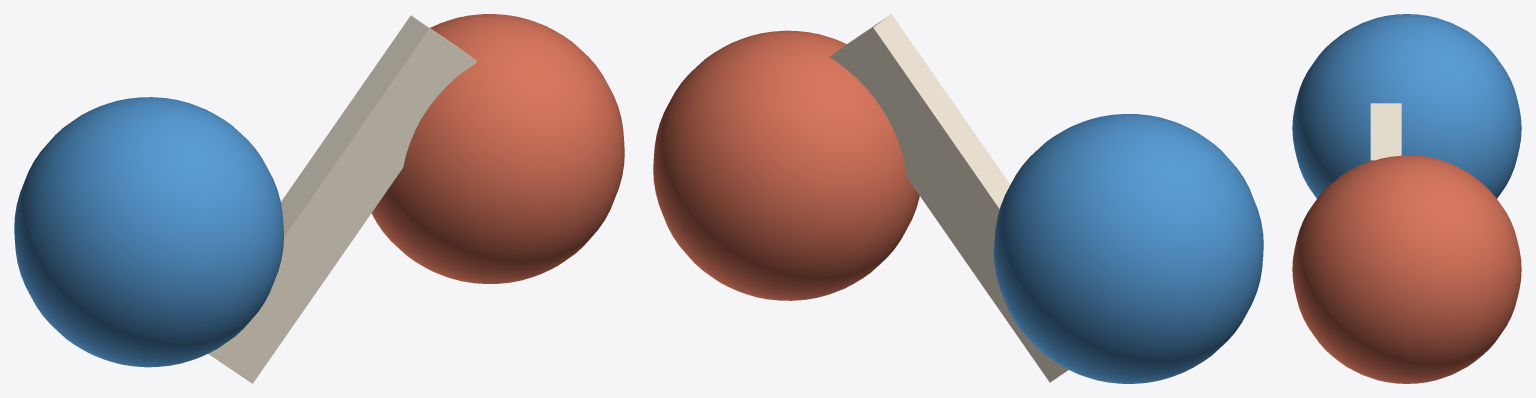
The model's file is bio-genetics-heterozygous-pairing.glb.
3 views of the same model, side by side, from view 1: azimuth 30°, elevation 25°; view 2: azimuth 150°, elevation 25°; view 3: azimuth 270°, elevation 25° (orthographic). The views are drawn at different scales.
Parts seen in each view (by area): view 1: different-allele-copy-left, different-allele-copy-right, different-version-contrast-bar; view 2: different-allele-copy-left, different-allele-copy-right, different-version-contrast-bar; view 3: different-allele-copy-right, different-allele-copy-left, different-version-contrast-bar.
Part boxes in pixels (x1,y1,x2,y2): different-allele-copy-left: (14,97,283,367); different-allele-copy-right: (371,14,624,283); different-version-contrast-bar: (208,15,476,383); different-allele-copy-left: (994,114,1263,383); different-allele-copy-right: (653,30,919,300); different-version-contrast-bar: (829,14,1068,382); different-allele-copy-right: (1292,155,1521,383); different-allele-copy-left: (1292,14,1521,198); different-version-contrast-bar: (1370,103,1401,161).
Size of what is drawn, in the model's own units: 1.08 by 0.5603 by 0.44.
